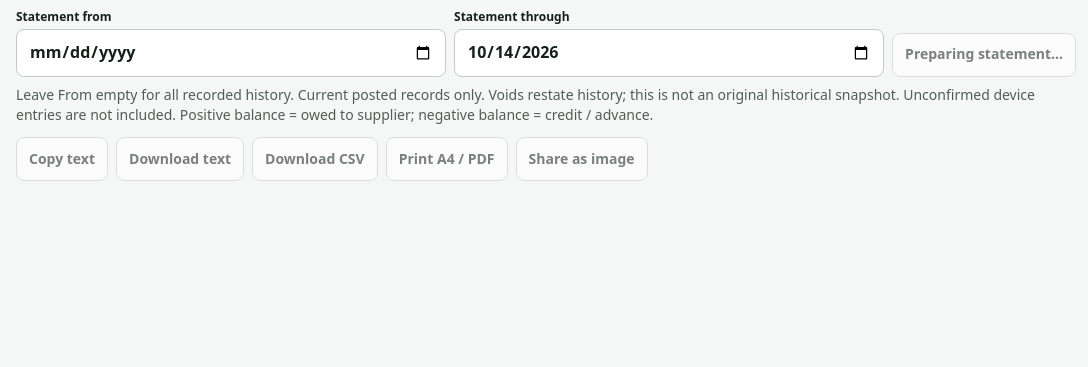
editing dates invalidates old exports immediately and ignores outstanding responses
Type "2026-10-14" into the date field labelled "Statement from" at (231,53), box [16,29,446,77]
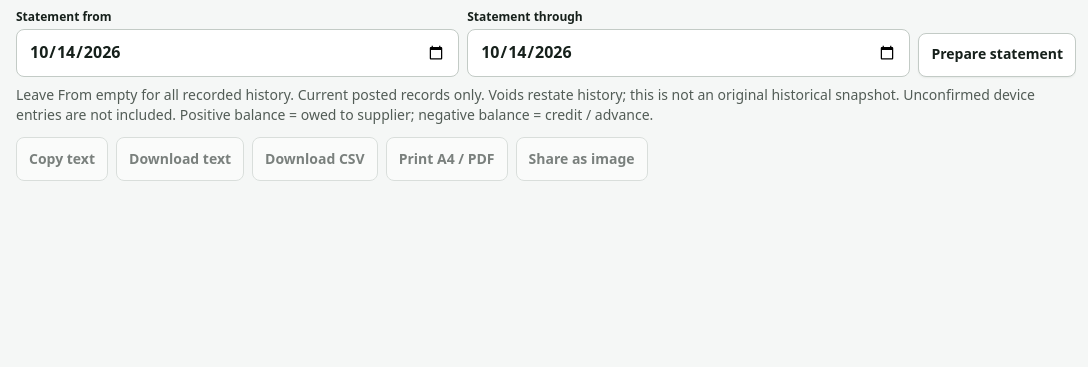
Expected: the button "Download CSV" is disabled, [252,137,378,181]
Click the button "Prepare statement" at (997,55), box [918,33,1076,77]
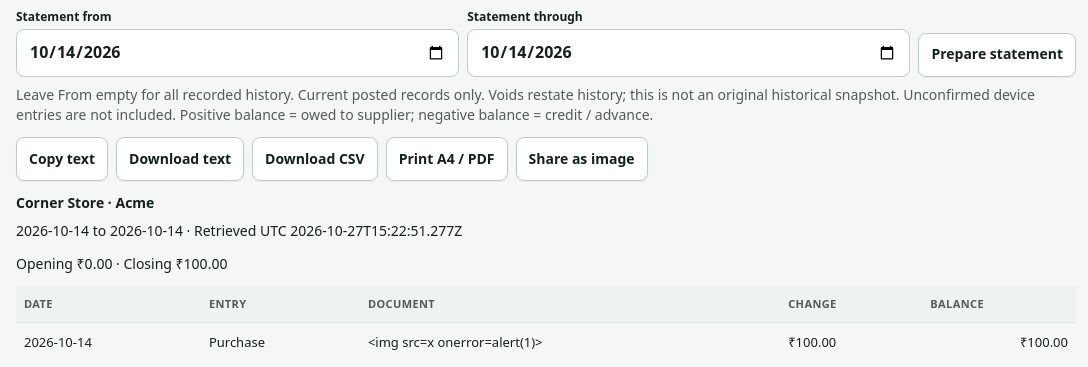
Result: the button "Download CSV" is enabled at [252,137,378,181]
Type "2026-10-13" into the date field labelled "Statement through" at (689,53), box [467,29,910,77]
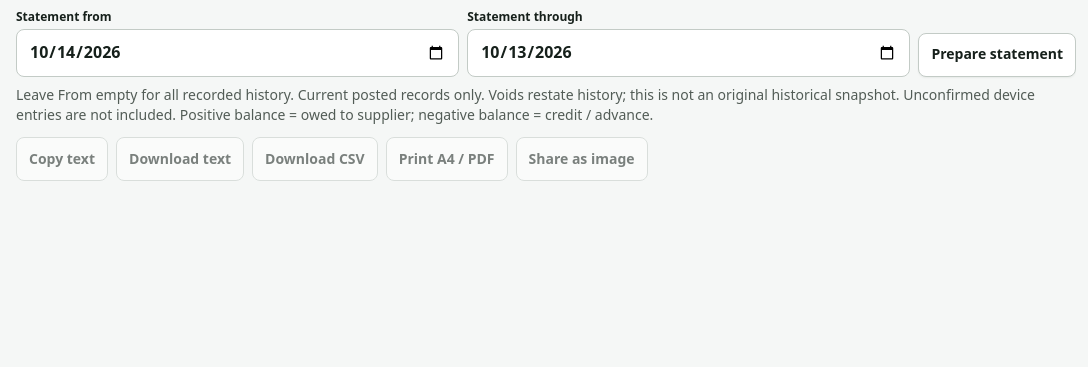
Result: the button "Print A4 / PDF" is disabled at [386,137,508,181]
Click the button "Prepare statement" at (997,55), box [918,33,1076,77]
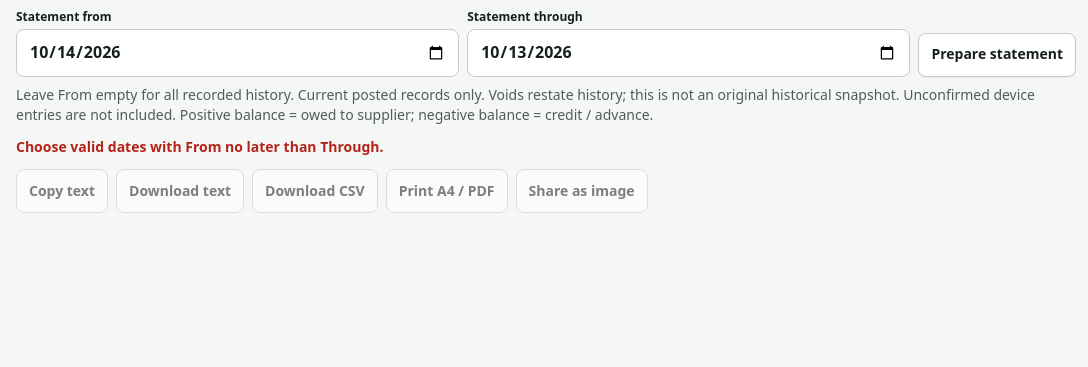
Result: the text "From no later than Through" is shown at [16,137,384,156]
